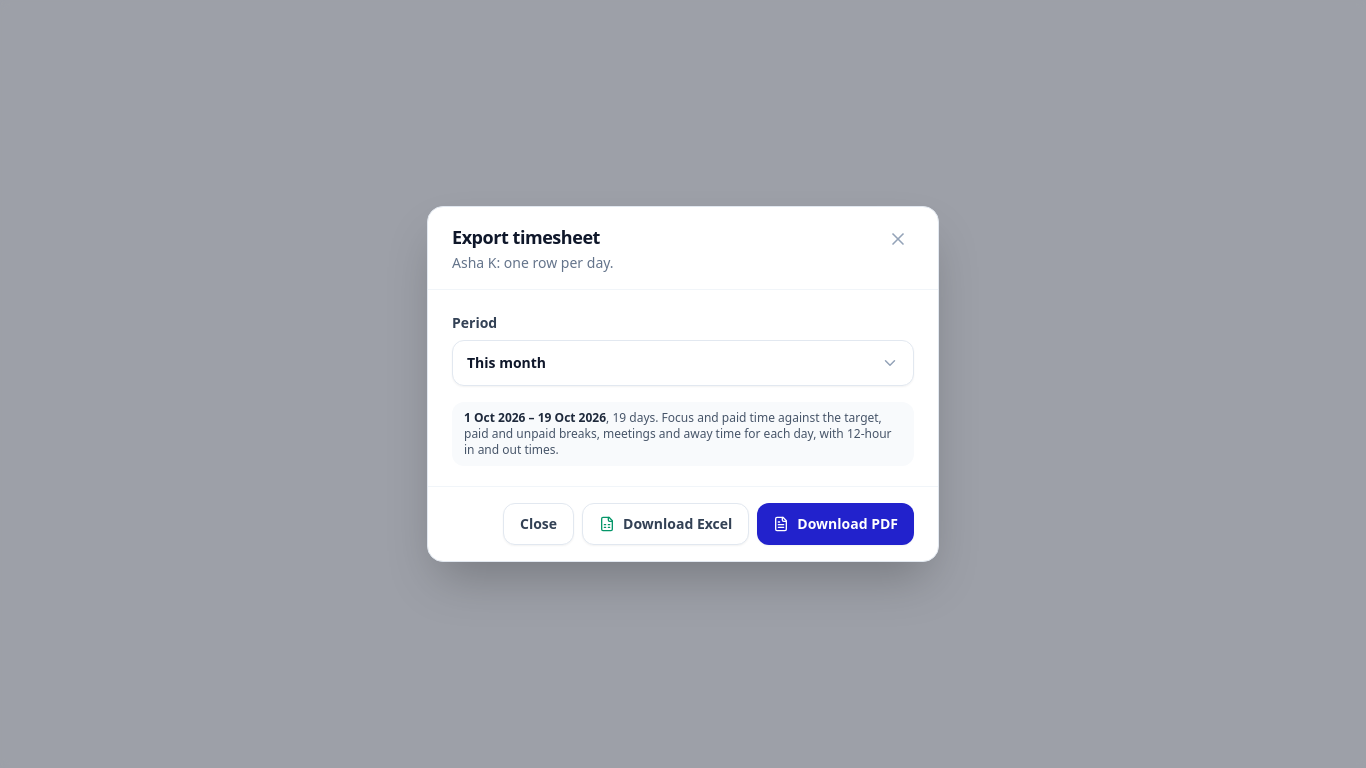
Scenario: ExportTimesheetDialog (SPEC 7.3) › shows the server's message and can always be tried again
What coordinates should you click on to do the following:
click the button "Download PDF"
I would click on:
 (836, 524)
Its box is [757,503,914,545].
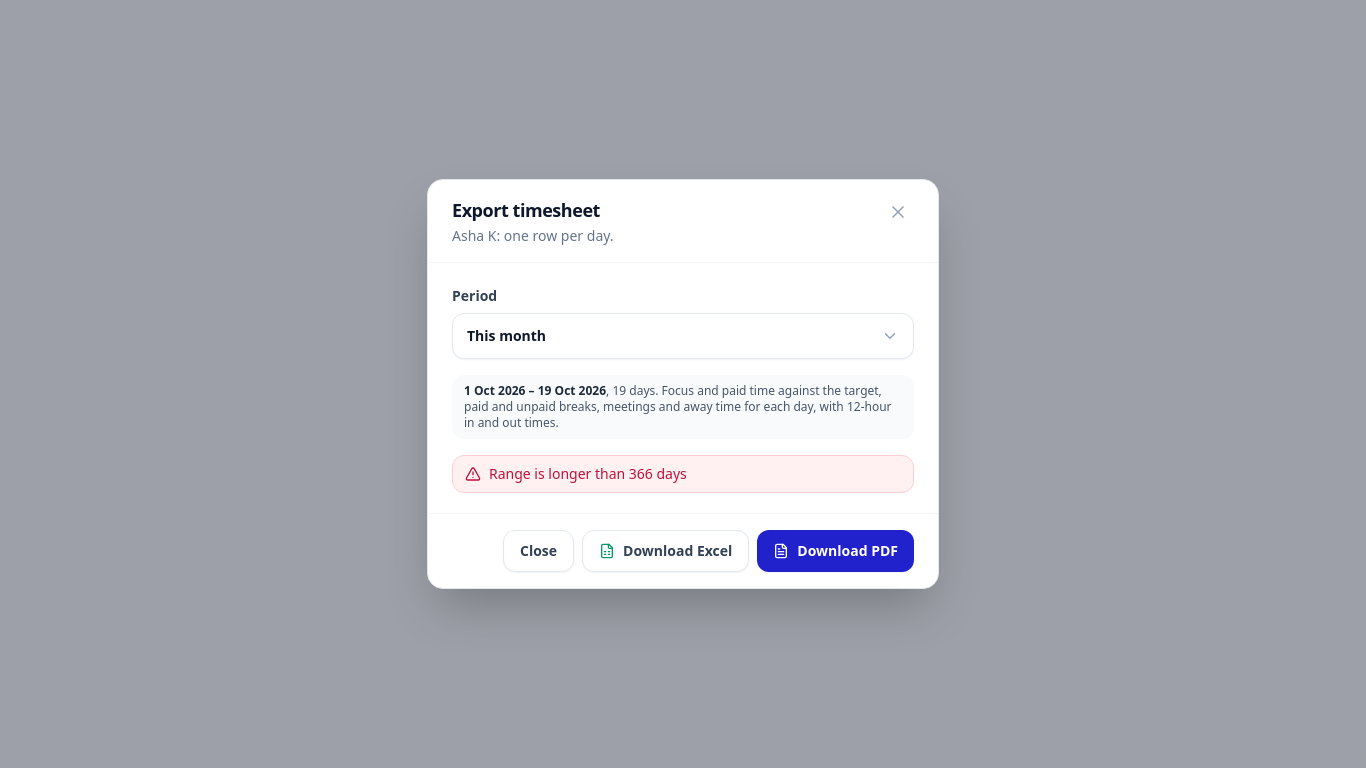
Expected: the message reads "Range is longer than 366 days", [489,464,687,483]
What coordinates should you click on to do the following:
click the button "Download PDF"
I would click on:
 (836, 551)
Its box is [757,530,914,572].
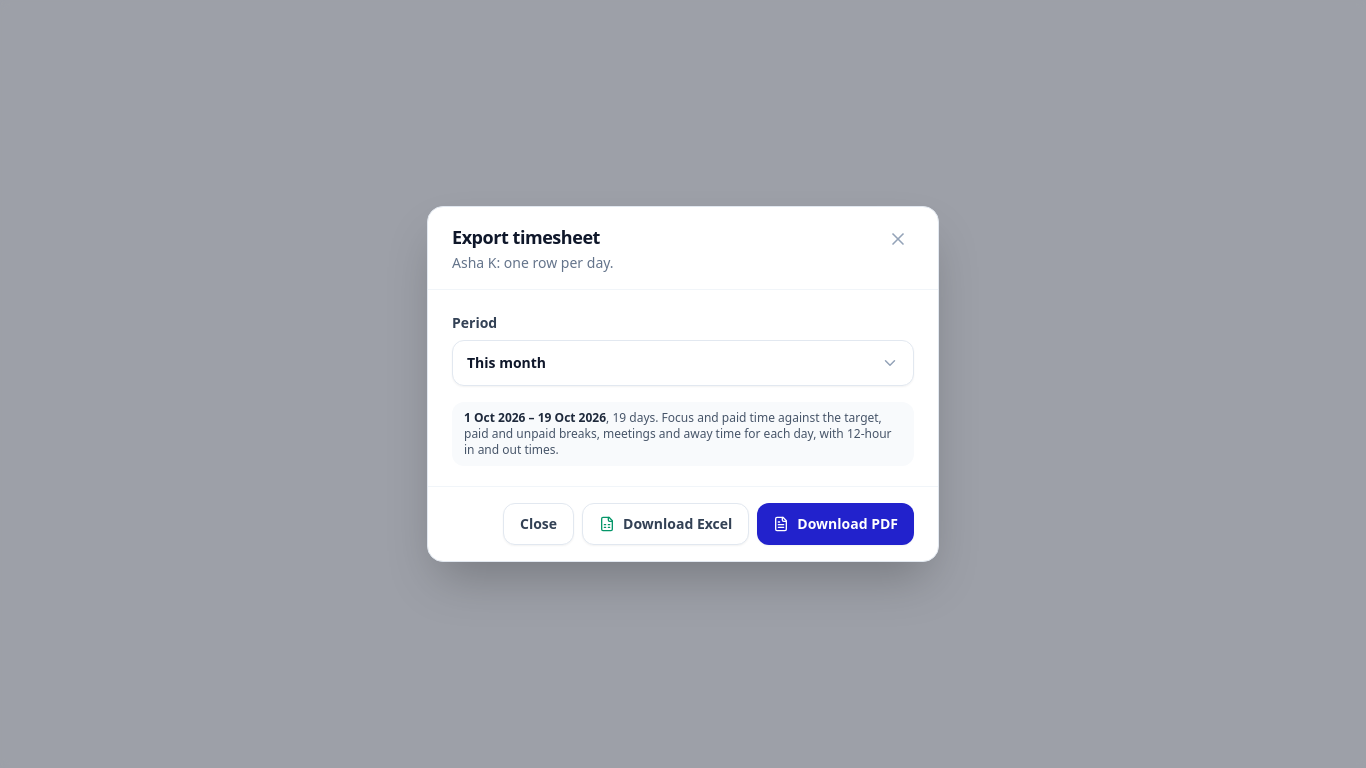
Expected: the message "Range is longer than 366 days" is gone
